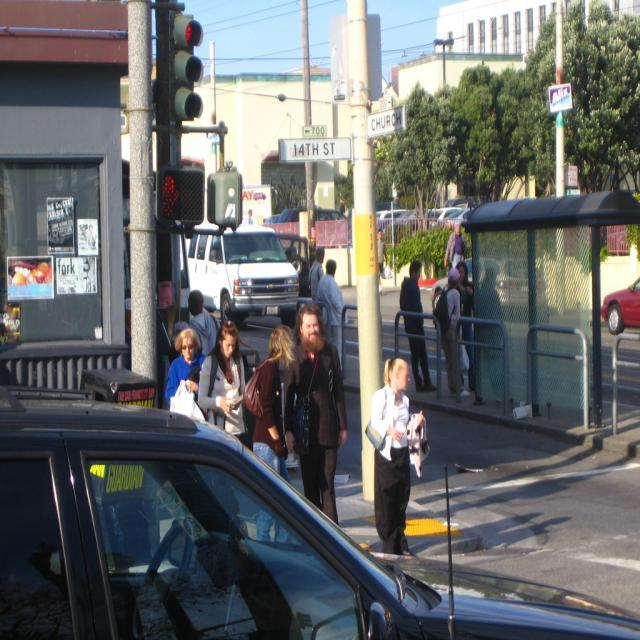traffic light: (168, 14, 205, 121)
